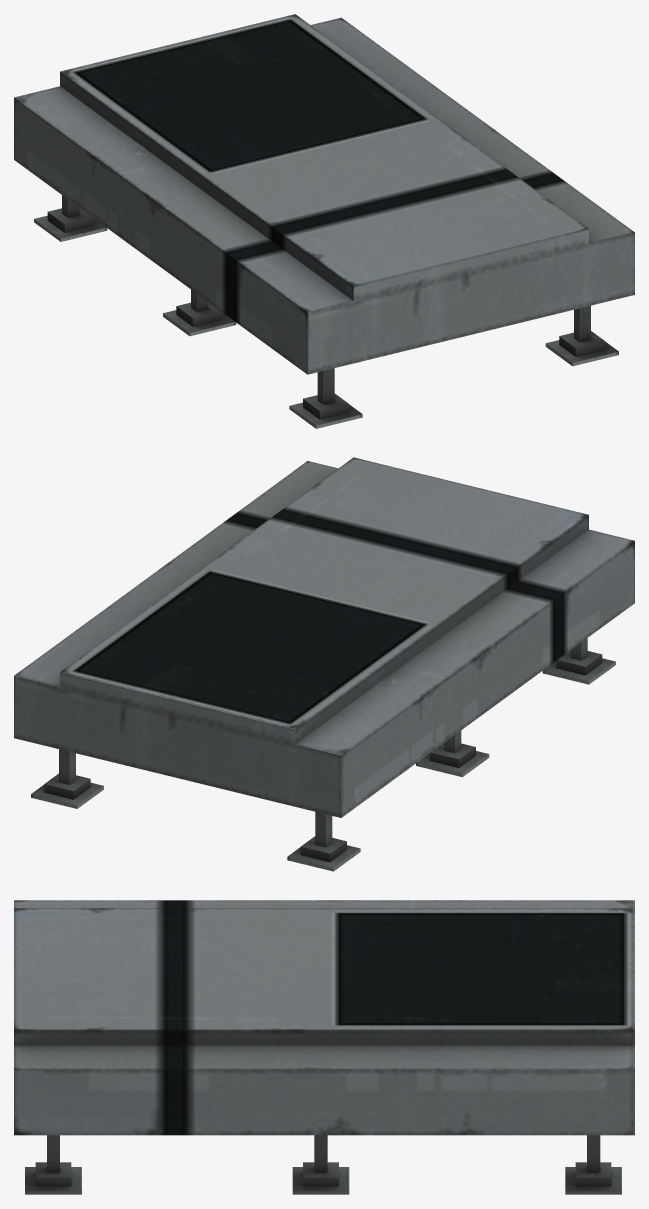
The model's file is Asset_Garage2_2.fbx.
The picture shows the model from 3 angles, top to bottom: view 1: azimuth 30°, elevation 25°; view 2: azimuth 150°, elevation 25°; view 3: azimuth 270°, elevation 25°; orthographic projection. The views are drawn at different scales.
Visible parts, largest first — view 1: Asset_Garage2_2; view 2: Asset_Garage2_2; view 3: Asset_Garage2_2.
Part boxes in pixels (x1=…): Asset_Garage2_2: x1=14, y1=14, x2=634, y2=428; Asset_Garage2_2: x1=14, y1=457, x2=634, y2=871; Asset_Garage2_2: x1=14, y1=900, x2=634, y2=1194.
Size of the model in its own units: 35.97 by 14.55 by 55.88.
